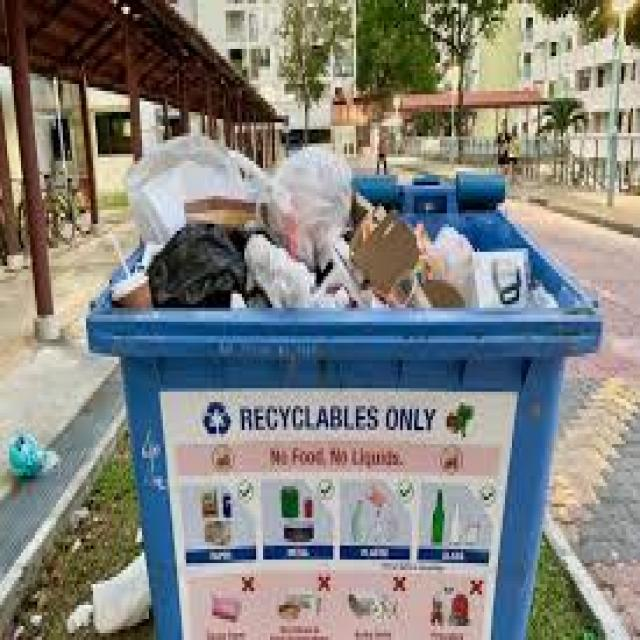bin_full: (83, 188, 609, 636)
bulk_waste: (354, 194, 424, 320), (423, 226, 482, 314), (478, 252, 526, 304)
normal_waste: (270, 140, 353, 261), (162, 222, 254, 322), (138, 138, 250, 212), (248, 223, 330, 316), (109, 236, 152, 314)
